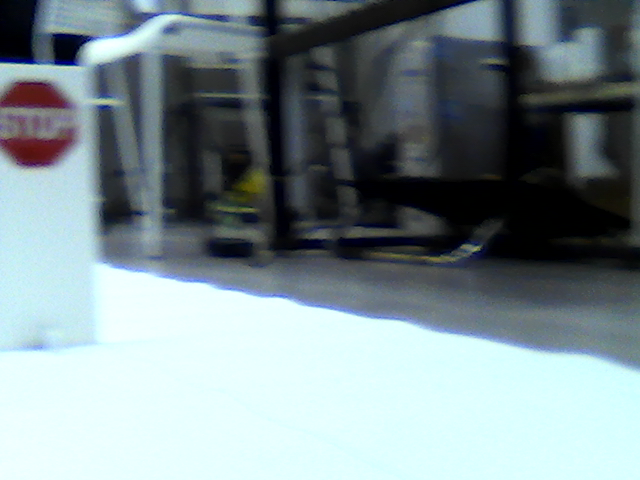Stop: (5, 79, 79, 173)
